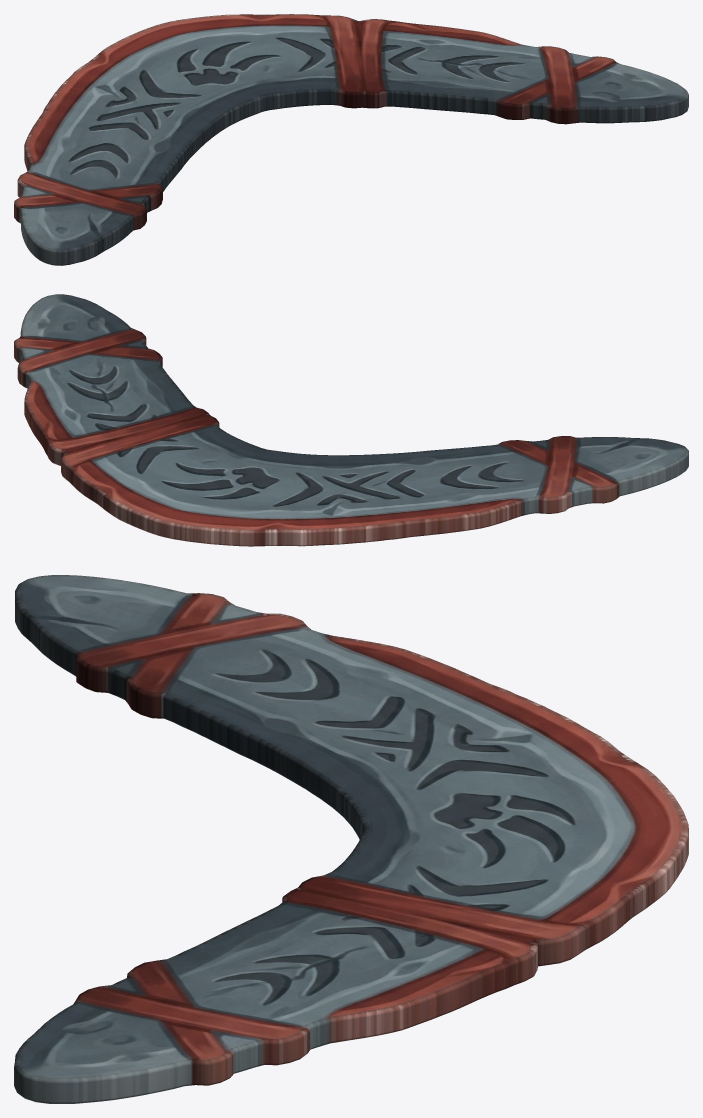
Rendered from Boomerang_36.fbx.
3 views of the same model, one above another, from view 1: azimuth 30°, elevation 25°; view 2: azimuth 150°, elevation 25°; view 3: azimuth 270°, elevation 25° (orthographic). The views are drawn at different scales.
Parts seen in each view (by area): view 1: Boomerang_36; view 2: Boomerang_36; view 3: Boomerang_36.
Boxes of the visible parts, x1,y1,x2,y2 form: Boomerang_36: (14, 14, 688, 265); Boomerang_36: (14, 294, 688, 546); Boomerang_36: (14, 575, 688, 1103).
Size of the model in its own units: 201 by 4.6 by 113.
1 material, 1 textured.
